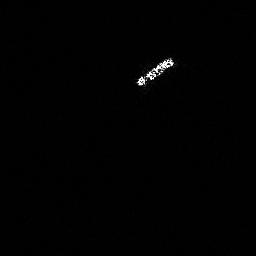ship: (132, 54, 180, 88)
